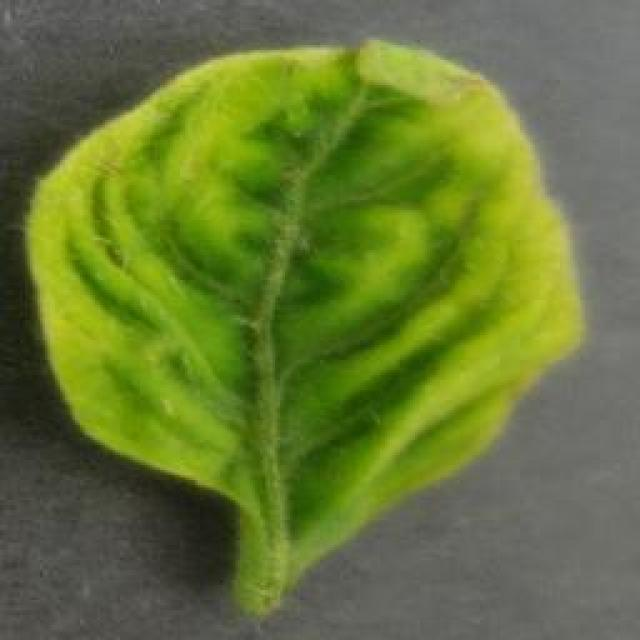Tomato yellow virus leaf: (21, 36, 584, 569)
